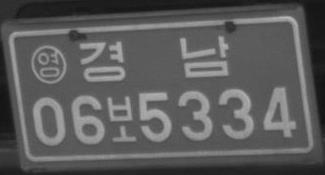0: (31, 96, 66, 147)
3: (218, 87, 254, 141), (178, 89, 213, 143)
4: (262, 86, 296, 138)
5: (137, 90, 172, 143)
6: (70, 93, 106, 146)
경남_D: (78, 34, 229, 82)
보: (106, 95, 136, 143)
영: (30, 45, 67, 84)
